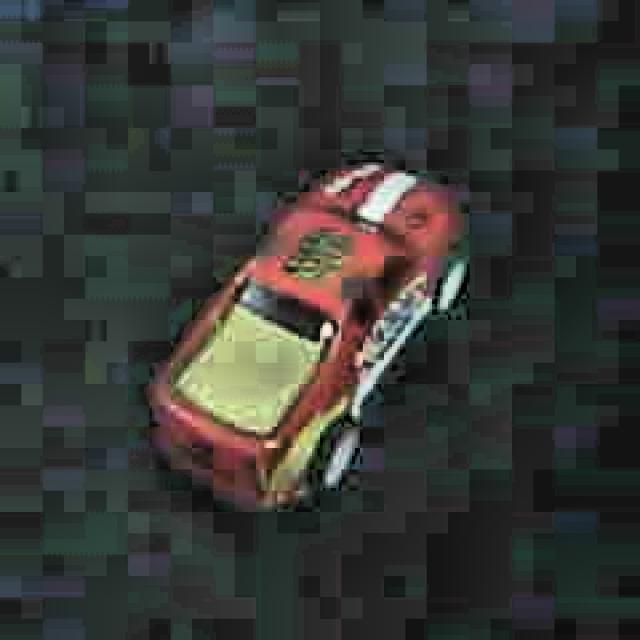car: (145, 154, 474, 520)
